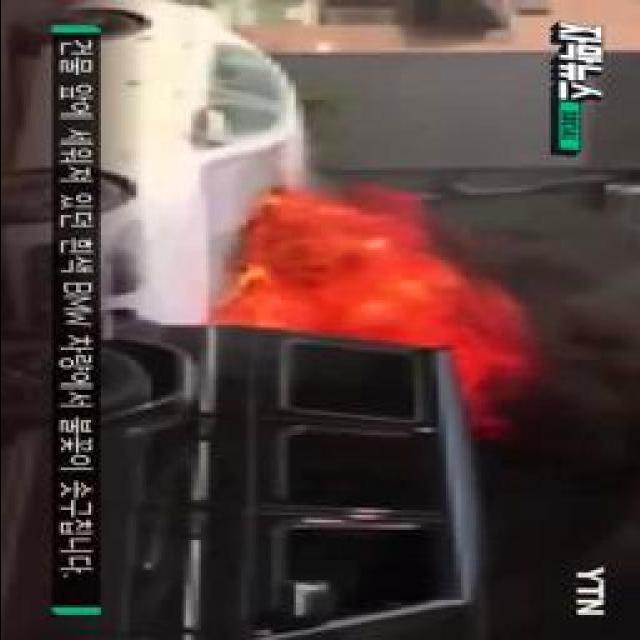Fire: (236, 208, 499, 401)
